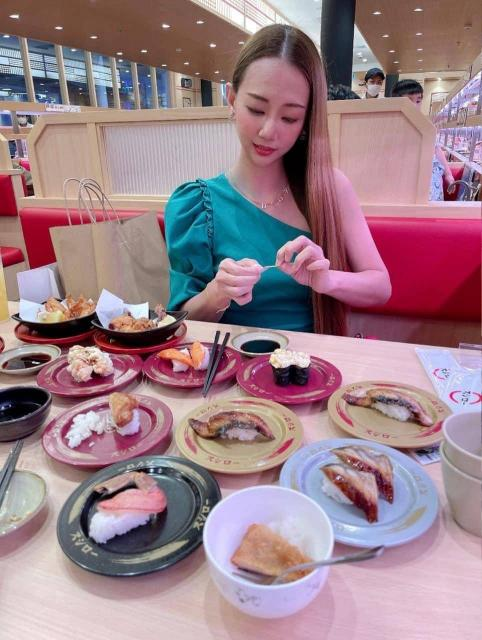janback: (75, 474, 214, 575)
jangold: (331, 384, 466, 447), (170, 410, 277, 477)
janred: (54, 402, 162, 471), (211, 348, 328, 409), (131, 341, 226, 395), (18, 300, 97, 349), (37, 351, 109, 400), (131, 333, 179, 361)
janwhite: (265, 443, 446, 552)
